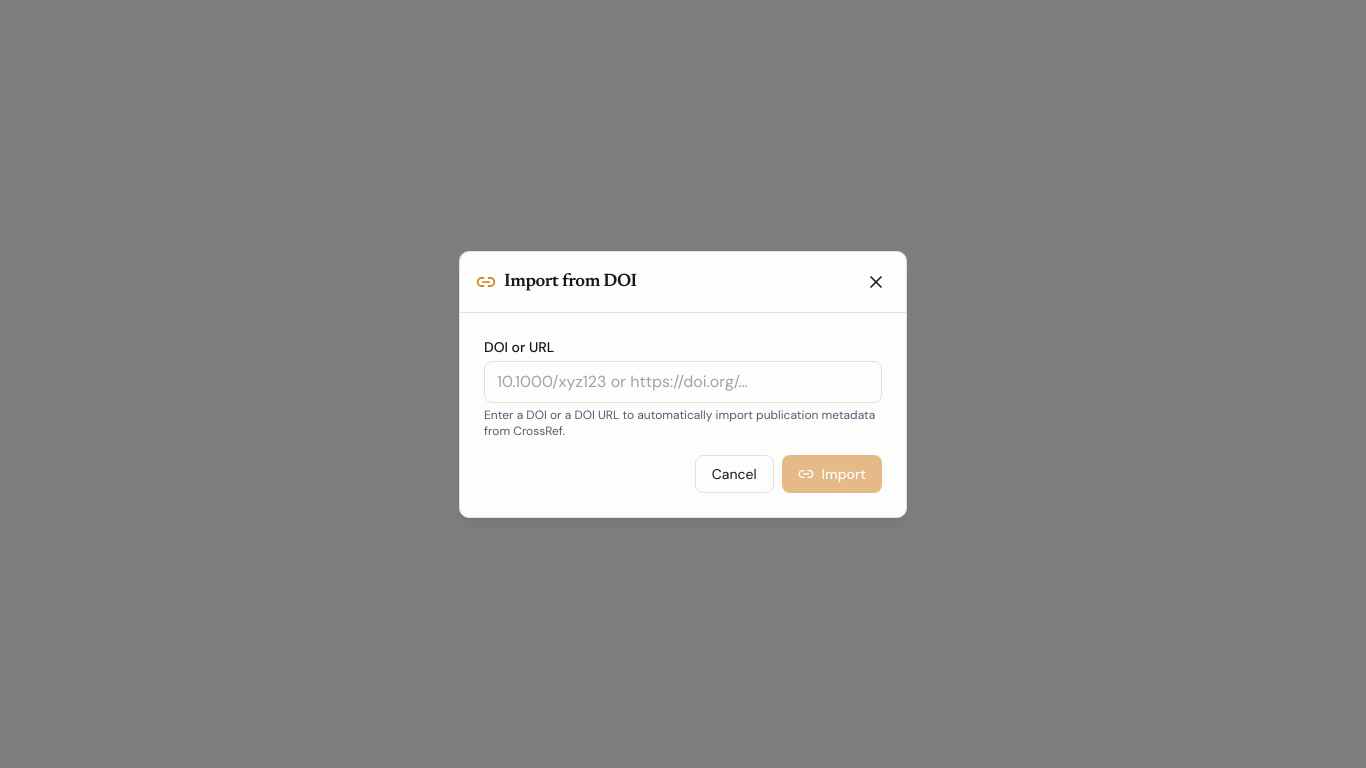
Test case: ImportDOIModal › enables Import button when DOI is entered
The width and height of the screenshot is (1366, 768).
Type "10.1234/test" into the field with placeholder "10.1000/xyz123 or https://doi.org/...". click: (683, 382)
box: x1=484 y1=360 x2=882 y2=402
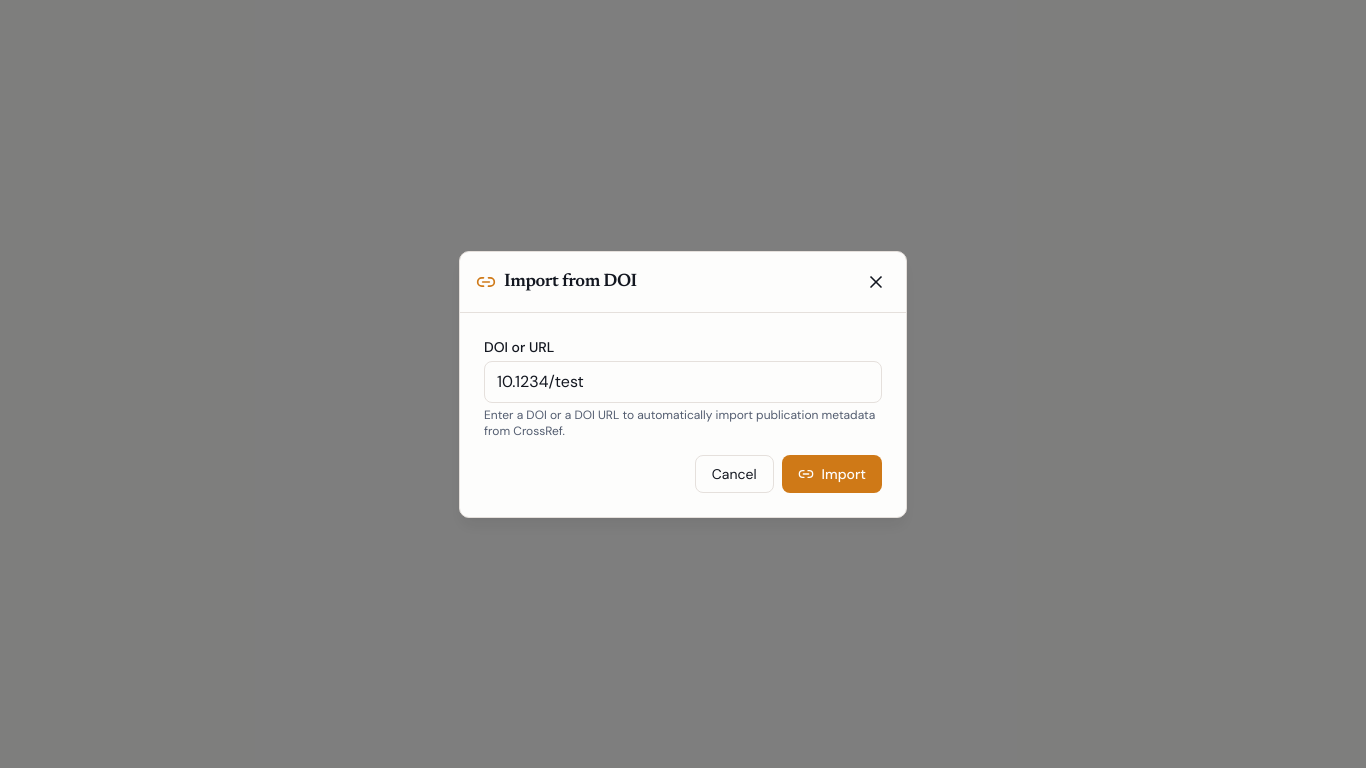
Expected: the button "Import" is enabled, x1=782 y1=454 x2=882 y2=492
